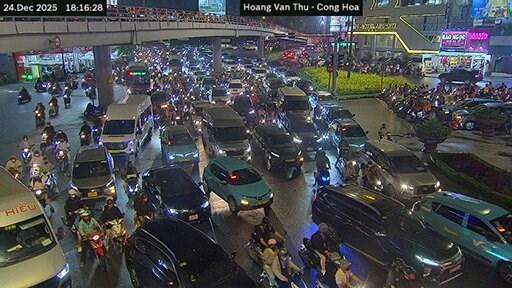motorbike: (245, 233, 306, 287), (316, 252, 344, 287), (258, 269, 307, 287), (297, 238, 320, 270), (105, 217, 125, 252), (89, 232, 105, 270), (60, 207, 80, 234), (327, 225, 342, 256), (41, 171, 56, 196), (54, 149, 67, 174), (124, 174, 137, 198), (39, 131, 53, 152), (83, 104, 105, 117), (32, 188, 45, 207), (19, 148, 31, 166), (316, 169, 329, 185), (135, 215, 150, 228), (83, 85, 95, 99), (28, 163, 39, 178), (9, 167, 21, 180), (35, 108, 44, 125), (48, 81, 59, 94), (91, 126, 99, 143), (18, 93, 31, 103), (80, 131, 89, 144), (48, 103, 57, 116), (35, 81, 47, 90), (64, 93, 70, 107), (70, 76, 76, 89), (63, 85, 70, 94), (349, 284, 358, 286), (332, 253, 335, 255), (288, 257, 290, 260)
